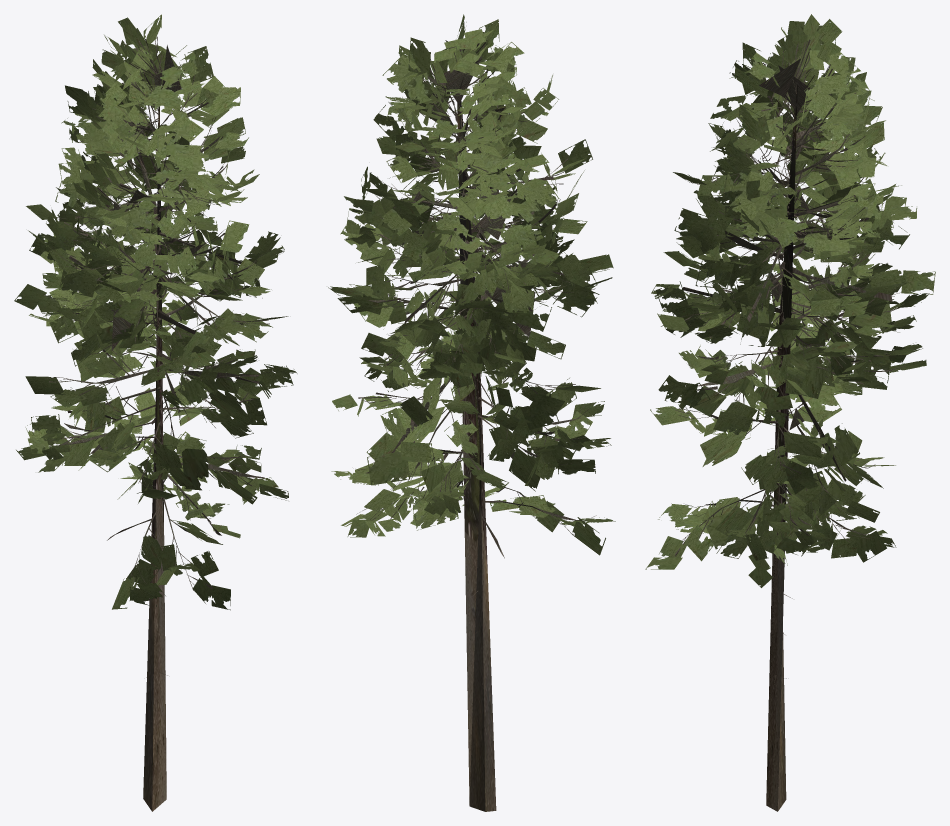
File: tree-fir.glb
The picture shows the model from 3 angles, left to right: view 1: azimuth 30°, elevation 25°; view 2: azimuth 150°, elevation 25°; view 3: azimuth 270°, elevation 25°; orthographic projection. The views are drawn at different scales.
Parts seen in each view (by area): view 1: tree-fir_LOD0; view 2: tree-fir_LOD0; view 3: tree-fir_LOD0.
Part boxes in pixels (x1,y1,x2,y2): tree-fir_LOD0: (14, 14, 297, 811); tree-fir_LOD0: (328, 14, 615, 811); tree-fir_LOD0: (645, 14, 935, 811).
Size of what is drawn, in the model's own units: 6.44 by 18.73 by 6.26.
Materials: 4 (4 with a texture image).
